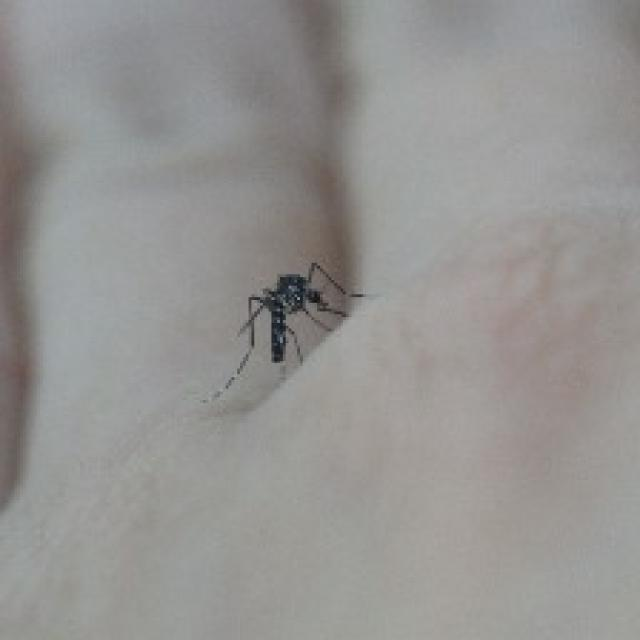aedes: (200, 257, 369, 403)
